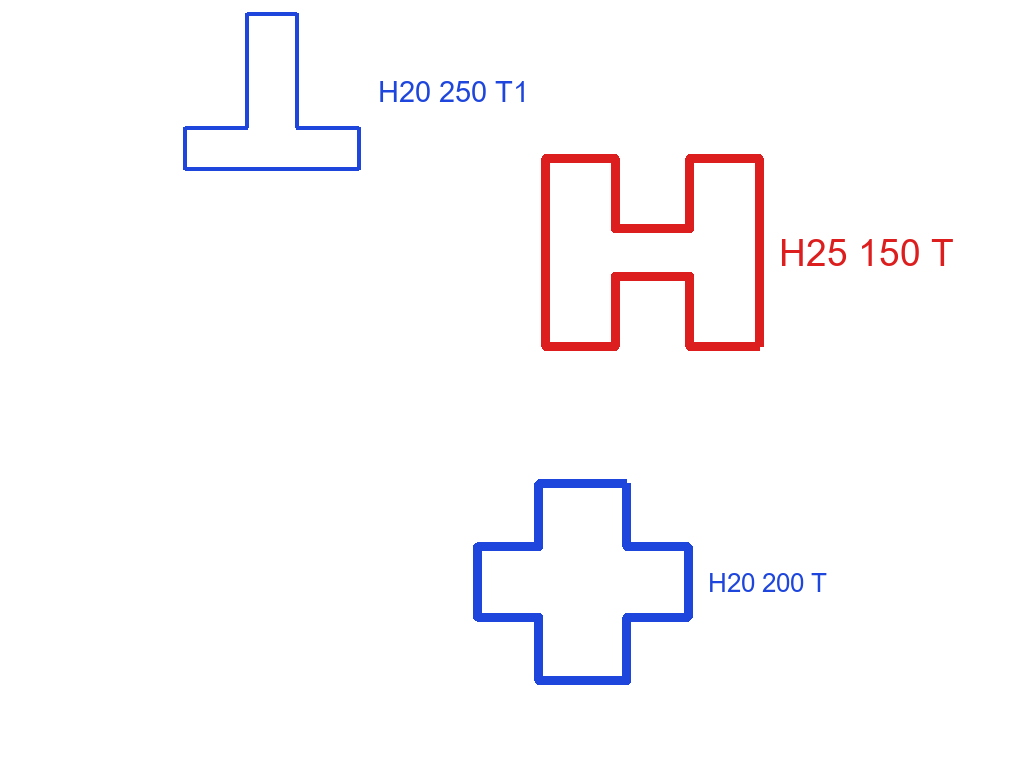shape: (471, 477, 695, 687), (539, 152, 766, 353), (181, 10, 362, 174)
text: (777, 237, 956, 268), (376, 79, 531, 104), (706, 571, 829, 594)
